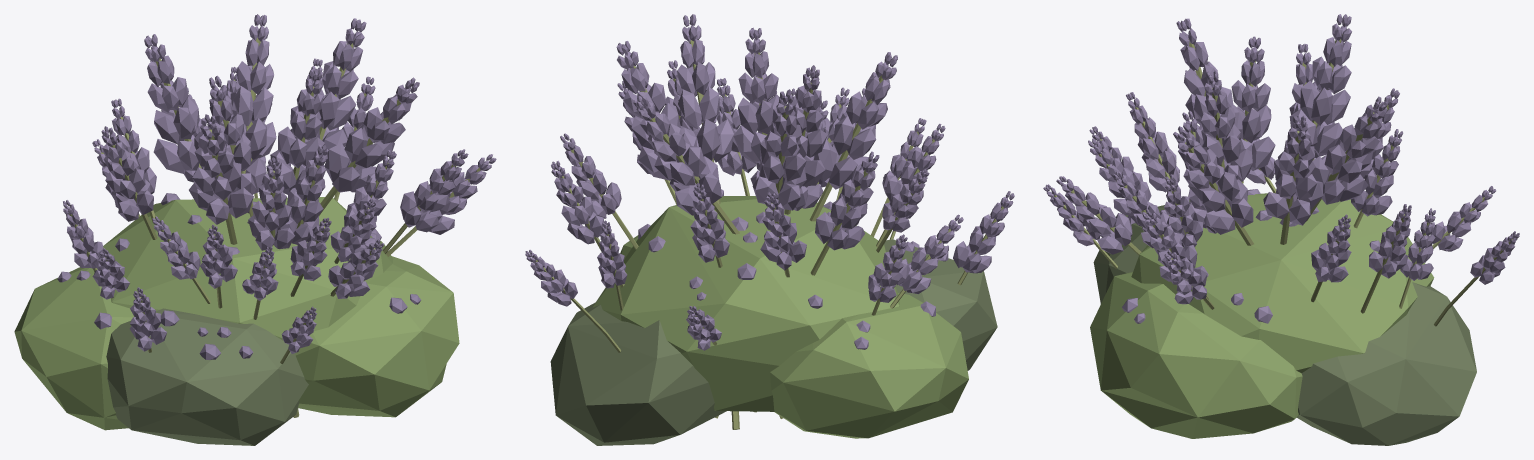
Rendered from lavenderBush_1.fbx.
The picture shows the model from 3 angles, left to right: view 1: azimuth 30°, elevation 25°; view 2: azimuth 150°, elevation 25°; view 3: azimuth 270°, elevation 25°; orthographic projection.
Parts seen in each view (by area): view 1: pPlatonic25; view 2: pPlatonic25; view 3: pPlatonic25.
Boxes of the visible parts, box(x1,y1,x2,y2) form: pPlatonic25: box(14, 14, 496, 445); pPlatonic25: box(525, 14, 1014, 445); pPlatonic25: box(1043, 14, 1519, 445).
Bounding box in the file's own units: 1.16 × 0.995 × 1.21.
